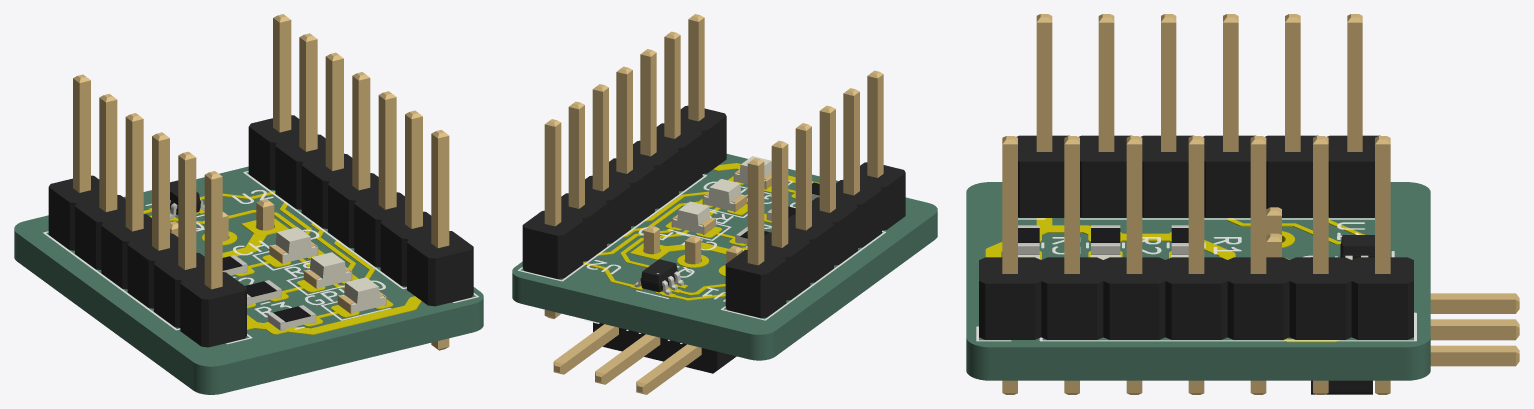
File: ttl_to_usb_adapter.gltf
3 views of the same model, side by side, from view 1: azimuth 30°, elevation 25°; view 2: azimuth 150°, elevation 25°; view 3: azimuth 270°, elevation 25° (orthographic). The views are drawn at different scales.
Parts seen in each view (by area): view 1: PinHeader_1x07_P2.54mm_Vertical, ttl_to_usb_adapter_PCB, PinHeader_1x06_P2.54mm_Vertical, ttl_to_usb_adapter_copper003, LED_0805_2012Metric001, LED_0805_2012Metric002, LED_0805_2012Metric, PinHeader_1x03_P2.54mm_Horizontal, R_0805_2012Metric, ttl_to_usb_adapter_copper004, R_0805_2012Metric001, ttl_to_usb_adapter_copper005 (+4 smaller); view 2: PinHeader_1x07_P2.54mm_Vertical, ttl_to_usb_adapter_PCB, PinHeader_1x06_P2.54mm_Vertical, PinHeader_1x03_P2.54mm_Horizontal, SOT-363_SC-70-6, LED_0805_2012Metric, LED_0805_2012Metric001, ttl_to_usb_adapter_copper003, ttl_to_usb_adapter_copper004, ttl_to_usb_adapter_copper005, LED_0805_2012Metric002, ttl_to_usb_adapter_copper001 (+2 smaller); view 3: PinHeader_1x07_P2.54mm_Vertical, PinHeader_1x06_P2.54mm_Vertical, ttl_to_usb_adapter_PCB, PinHeader_1x03_P2.54mm_Horizontal, ttl_to_usb_adapter_copper003, R_0805_2012Metric001, ttl_to_usb_adapter_silkscreen004, SOT-363_SC-70-6, R_0805_2012Metric, R_0805_2012Metric002.
Part boxes in pixels (x1=…): PinHeader_1x07_P2.54mm_Vertical: x1=248, y1=14, x2=473, y2=350; ttl_to_usb_adapter_PCB: x1=14, y1=166, x2=483, y2=394; PinHeader_1x06_P2.54mm_Vertical: x1=48, y1=74, x2=246, y2=347; ttl_to_usb_adapter_copper003: x1=222, y1=218, x2=421, y2=334; LED_0805_2012Metric001: x1=303, y1=252, x2=352, y2=288; LED_0805_2012Metric002: x1=337, y1=277, x2=386, y2=314; LED_0805_2012Metric: x1=269, y1=227, x2=318, y2=263; PinHeader_1x03_P2.54mm_Horizontal: x1=170, y1=199, x2=274, y2=241; R_0805_2012Metric: x1=268, y1=305, x2=316, y2=330; ttl_to_usb_adapter_copper004: x1=170, y1=210, x2=393, y2=309; R_0805_2012Metric001: x1=245, y1=280, x2=281, y2=305; ttl_to_usb_adapter_copper005: x1=199, y1=191, x2=358, y2=284; PinHeader_1x07_P2.54mm_Vertical: x1=522, y1=14, x2=726, y2=318; ttl_to_usb_adapter_PCB: x1=512, y1=154, x2=937, y2=360; PinHeader_1x06_P2.54mm_Vertical: x1=725, y1=70, x2=905, y2=318; PinHeader_1x03_P2.54mm_Horizontal: x1=553, y1=225, x2=742, y2=394; SOT-363_SC-70-6: x1=634, y1=259, x2=683, y2=294; LED_0805_2012Metric: x1=671, y1=201, x2=715, y2=234; LED_0805_2012Metric001: x1=702, y1=179, x2=746, y2=212; ttl_to_usb_adapter_copper003: x1=630, y1=163, x2=819, y2=260; ttl_to_usb_adapter_copper004: x1=620, y1=176, x2=744, y2=288; ttl_to_usb_adapter_copper005: x1=583, y1=199, x2=713, y2=290; LED_0805_2012Metric002: x1=733, y1=156, x2=771, y2=189; ttl_to_usb_adapter_copper001: x1=595, y1=221, x2=709, y2=267; PinHeader_1x07_P2.54mm_Vertical: x1=979, y1=136, x2=1413, y2=394; PinHeader_1x06_P2.54mm_Vertical: x1=1016, y1=14, x2=1380, y2=217; ttl_to_usb_adapter_PCB: x1=966, y1=182, x2=1430, y2=380; PinHeader_1x03_P2.54mm_Horizontal: x1=1266, y1=207, x2=1519, y2=394; ttl_to_usb_adapter_copper003: x1=985, y1=218, x2=1235, y2=259; R_0805_2012Metric001: x1=1091, y1=225, x2=1120, y2=254; ttl_to_usb_adapter_silkscreen004: x1=1039, y1=312, x2=1416, y2=341; SOT-363_SC-70-6: x1=1340, y1=235, x2=1374, y2=259; R_0805_2012Metric: x1=1018, y1=225, x2=1039, y2=254; R_0805_2012Metric002: x1=1171, y1=225, x2=1188, y2=254.
Size of the model in its own units: 0.016 by 0.0128 by 0.0226.
